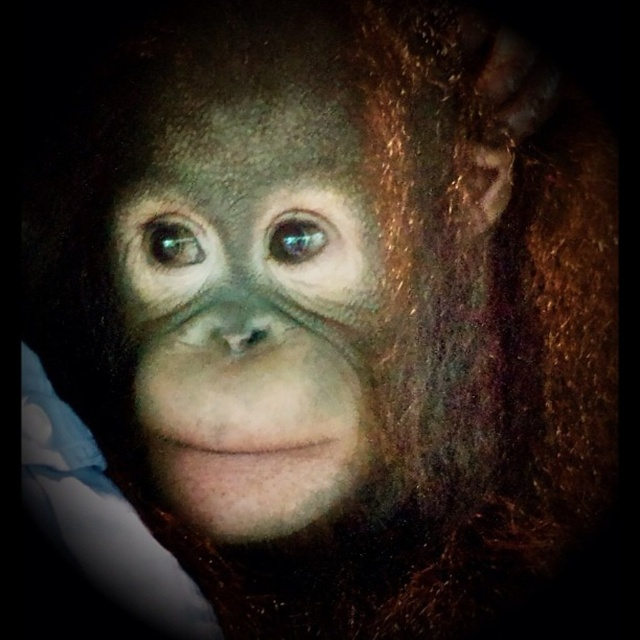Monkey: (0, 0, 621, 640)
